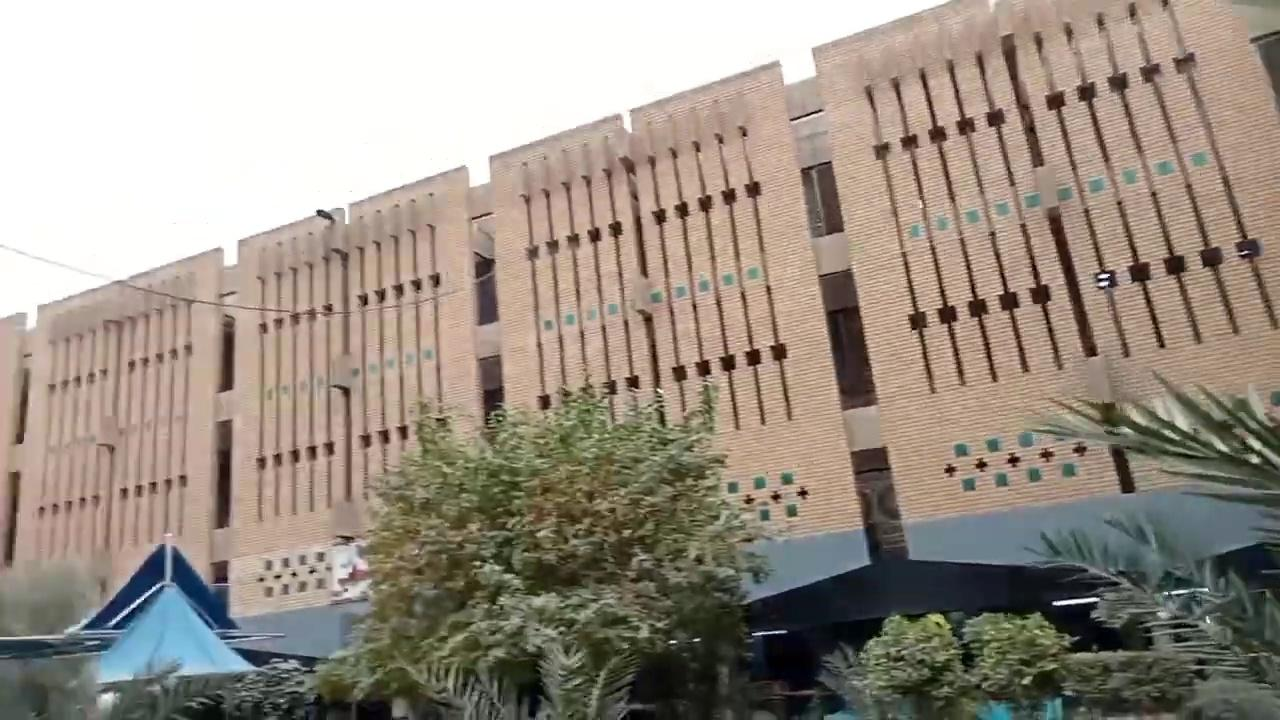tree: (817, 364, 1278, 718), (312, 374, 780, 718), (1022, 361, 1279, 564), (826, 609, 968, 718), (960, 608, 1078, 704), (168, 656, 319, 718)
